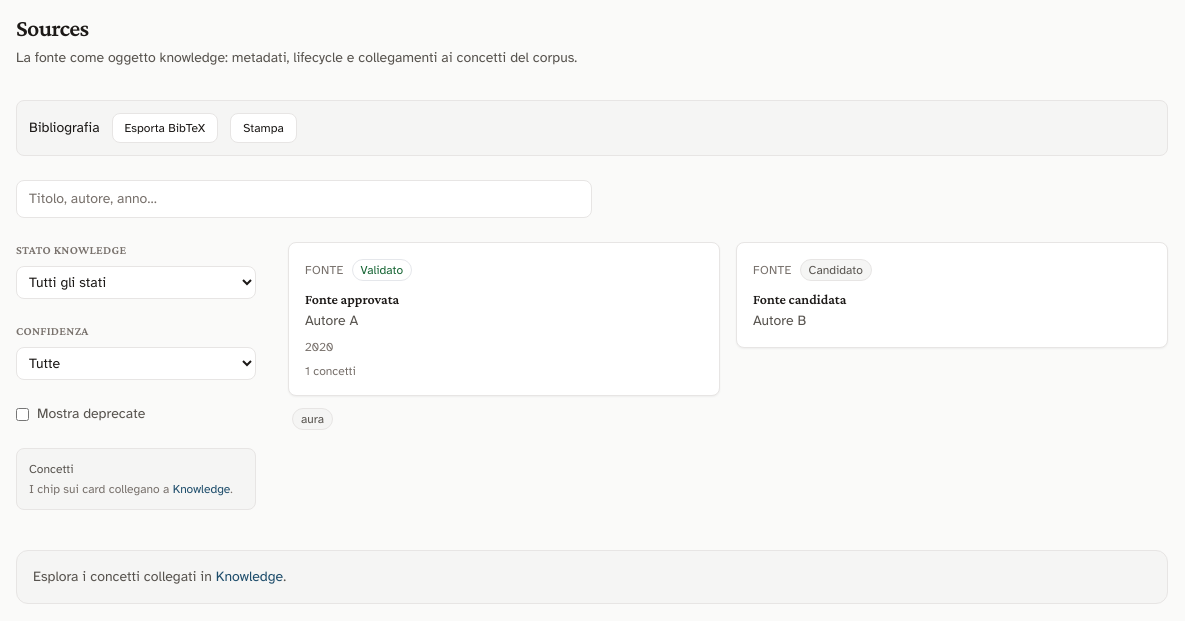
SourcesView › filters sources by knowledge state
Select "Candidato" in the dropdown named "Filtra per stato knowledge": (136, 282) [16,266,256,299]
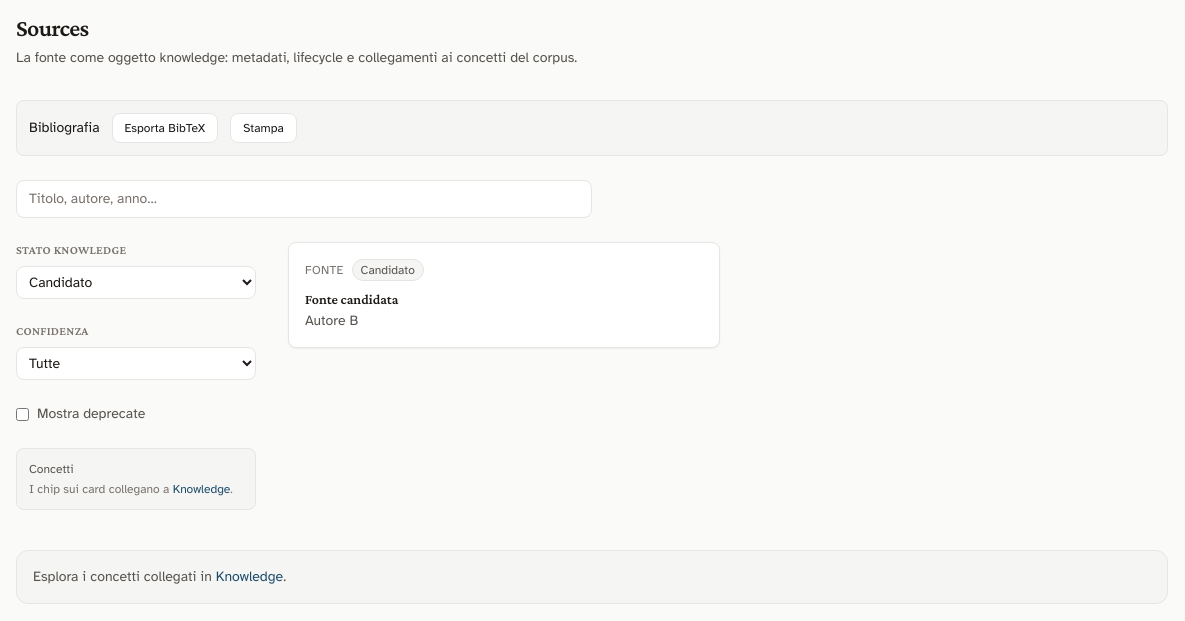
Expected: the heading "Fonte candidata" is shown, [305,291,398,307]
Result: the link "Fonte approvata" is gone
